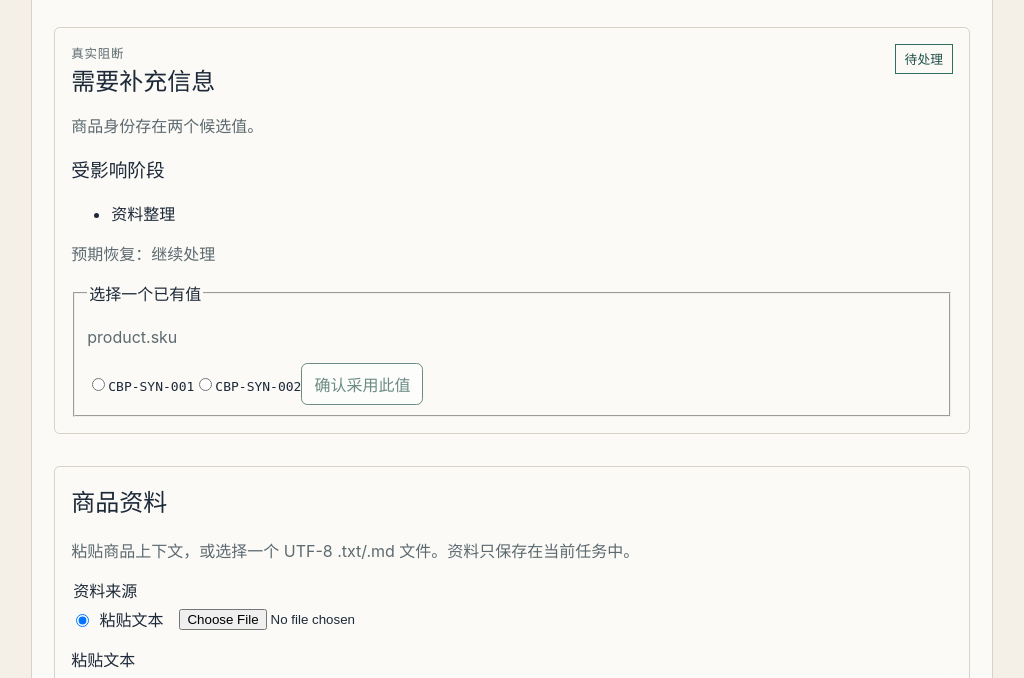
Test case: TaskRoutes › keeps stale authority blocked until a new current request is read
(page scrolled)
Click the radio button labelled "CBP-SYN-001".
click(99, 384)  # box [92,378,105,391]
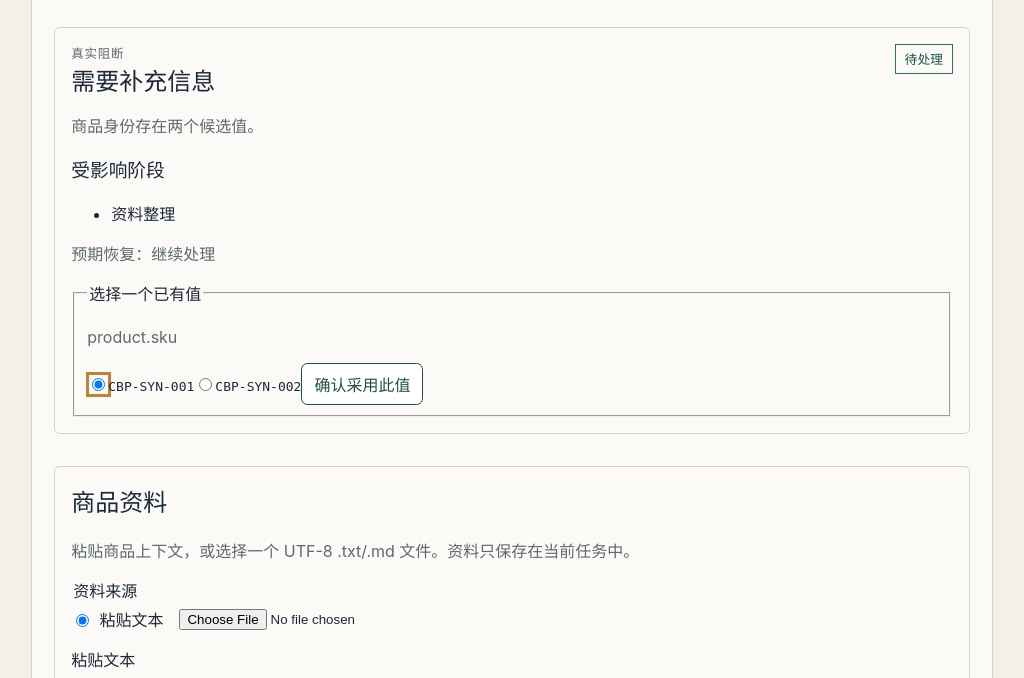
Click the button "确认采用此值".
click(362, 384)  # box [301,363,423,405]
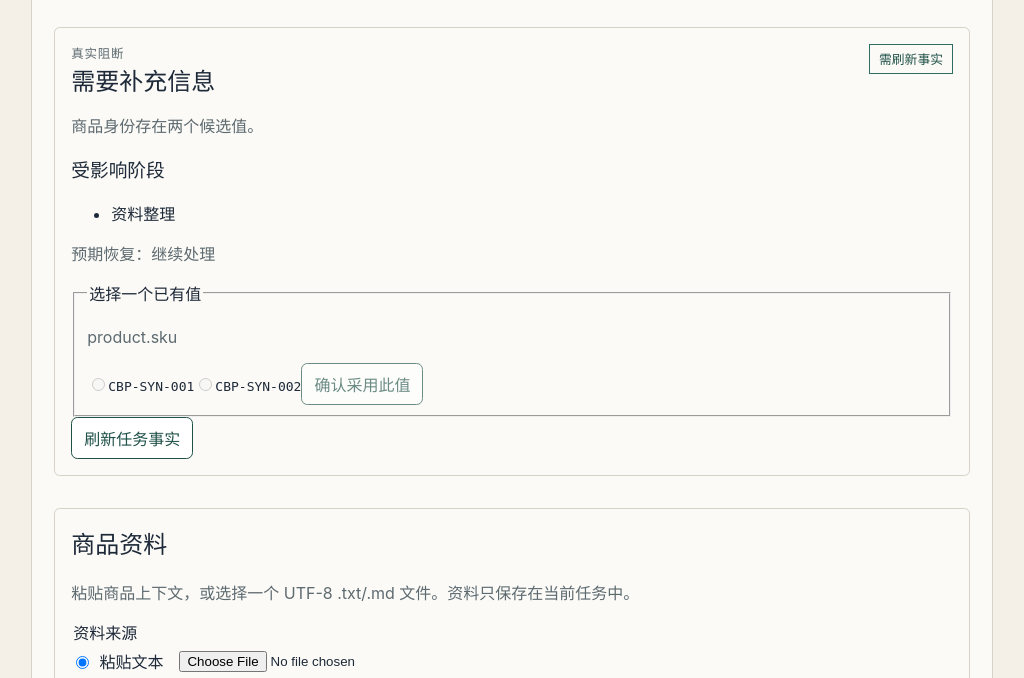
Expected: the text "需刷新事实" is shown, [869,44,953,74]
Expected: the button "刷新任务事实" is shown
Expected: the radio button labelled "CBP-SYN-001" is disabled, [92,378,105,391]
Click the button "刷新任务事实".
click(132, 438)  # box [71,417,193,459]
(page scrolled)
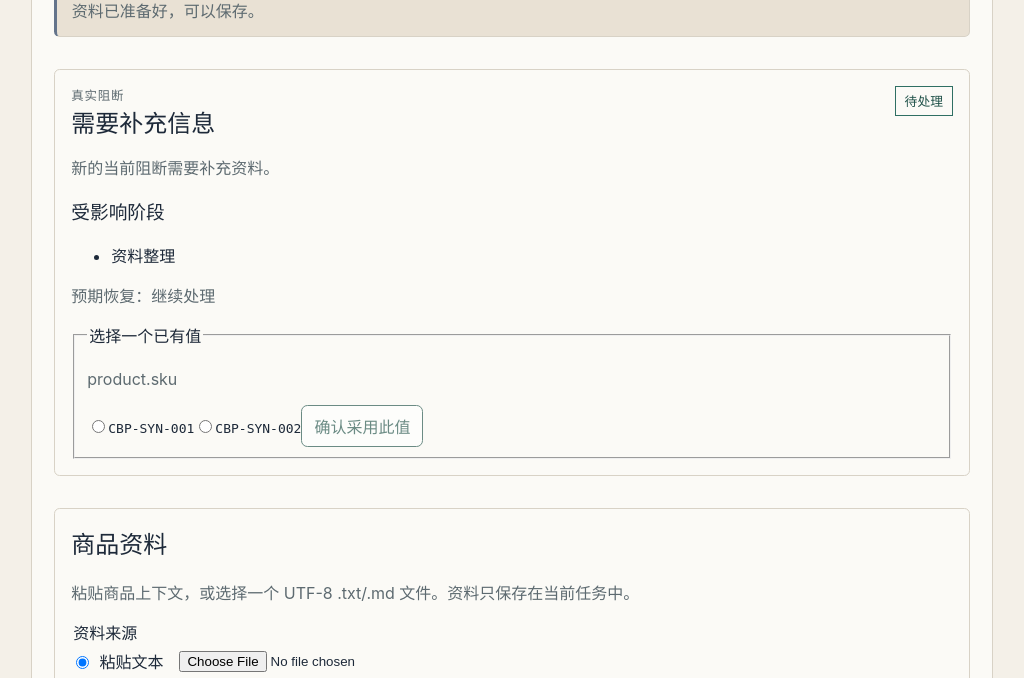
Expected: the text "新的当前阻断需要补充资料。" is shown, [71,158,279,178]
Expected: the radio button labelled "CBP-SYN-001" is enabled, [92,420,105,433]
